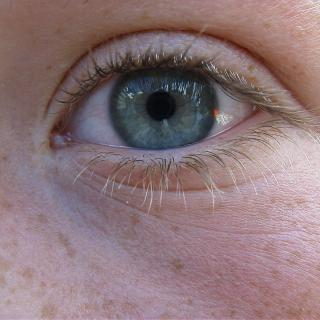pupil: (146, 91, 176, 121)
